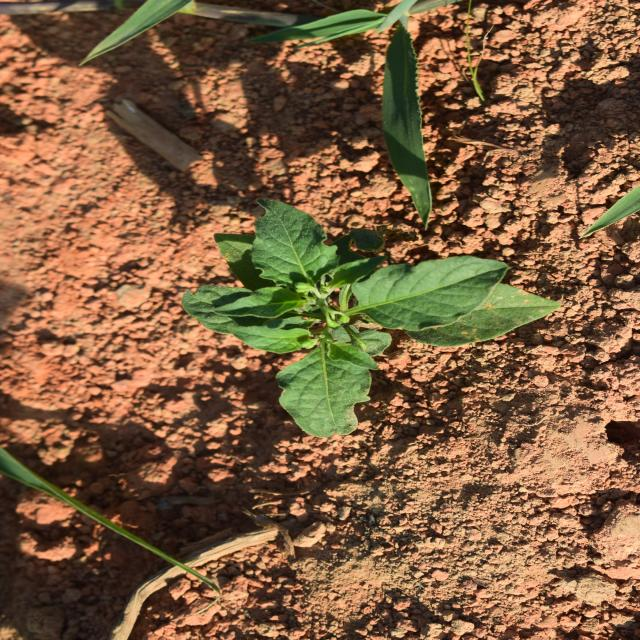Black_nightshade: (207, 194, 436, 526)
